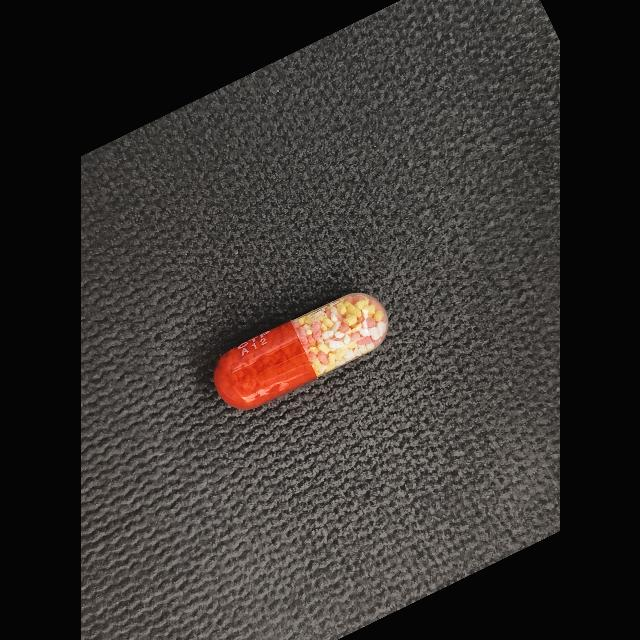Intact Capsule: (213, 293, 387, 410)
